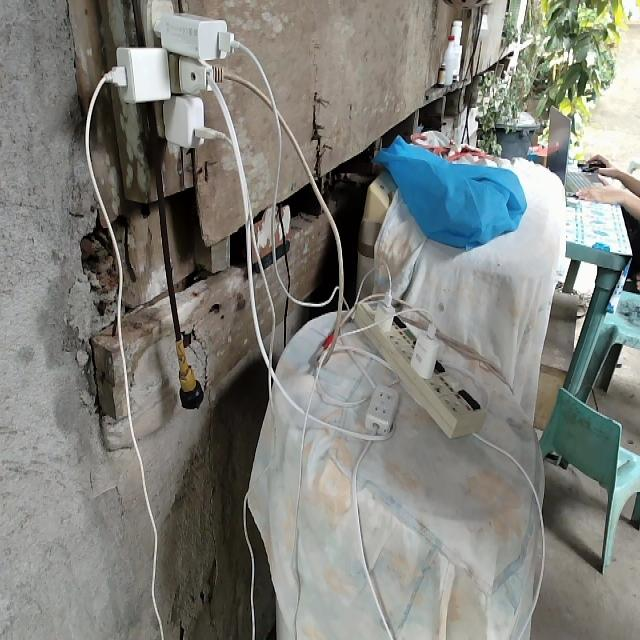-: (103, 0, 248, 145)
